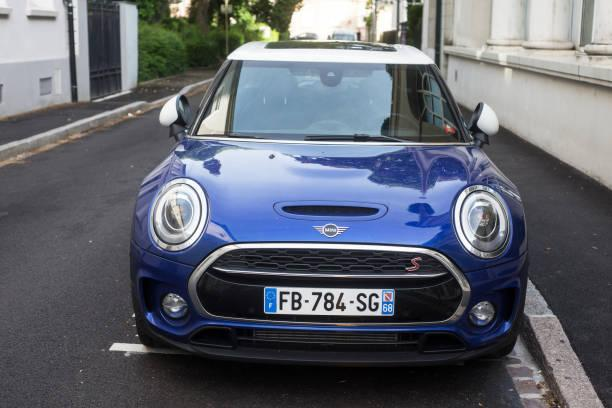mini: (304, 218, 368, 248)
